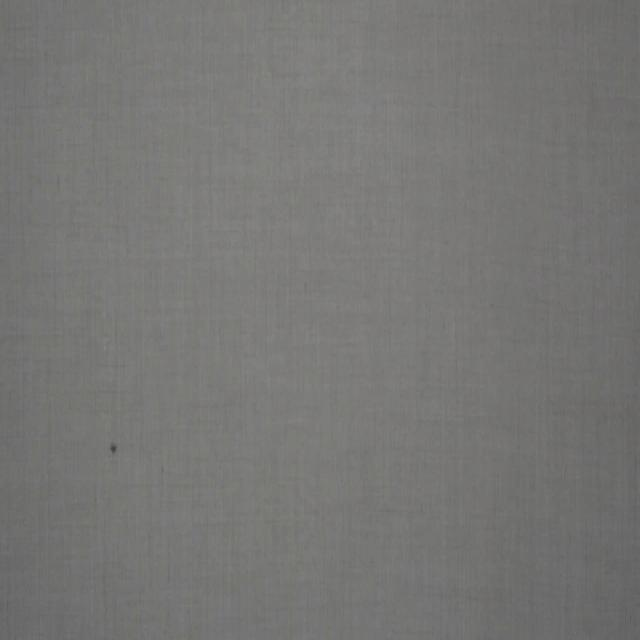dirty: (110, 443, 118, 454)
